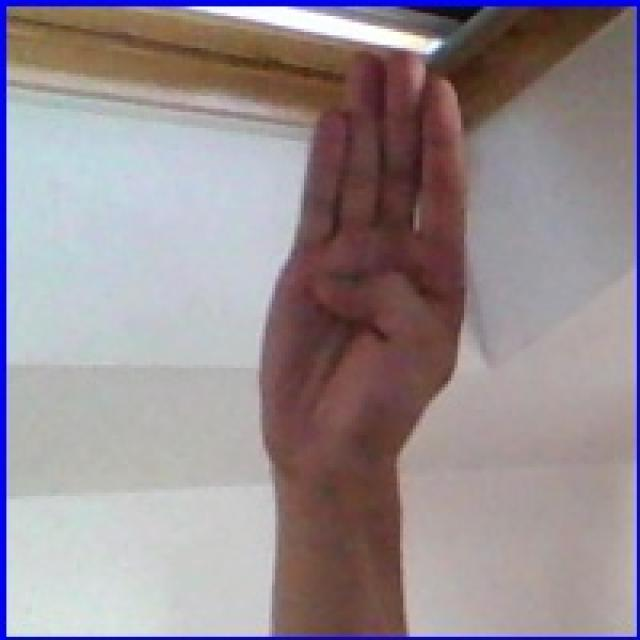Letra B: (244, 27, 476, 487)
